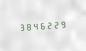eight: (24, 21, 30, 31)
four: (31, 20, 37, 31)
nine: (59, 18, 65, 29)
six: (38, 20, 44, 30)
three: (17, 21, 23, 32)
two: (45, 19, 51, 30), (52, 19, 58, 29)
